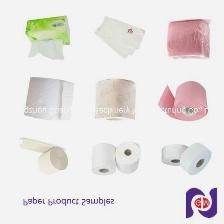tissue: (18, 74, 78, 127), (17, 11, 74, 66), (89, 13, 149, 64), (151, 77, 212, 127), (14, 133, 72, 180), (89, 75, 140, 128), (162, 15, 214, 65), (176, 138, 214, 178), (110, 138, 143, 177), (88, 140, 118, 178), (156, 141, 192, 168)
